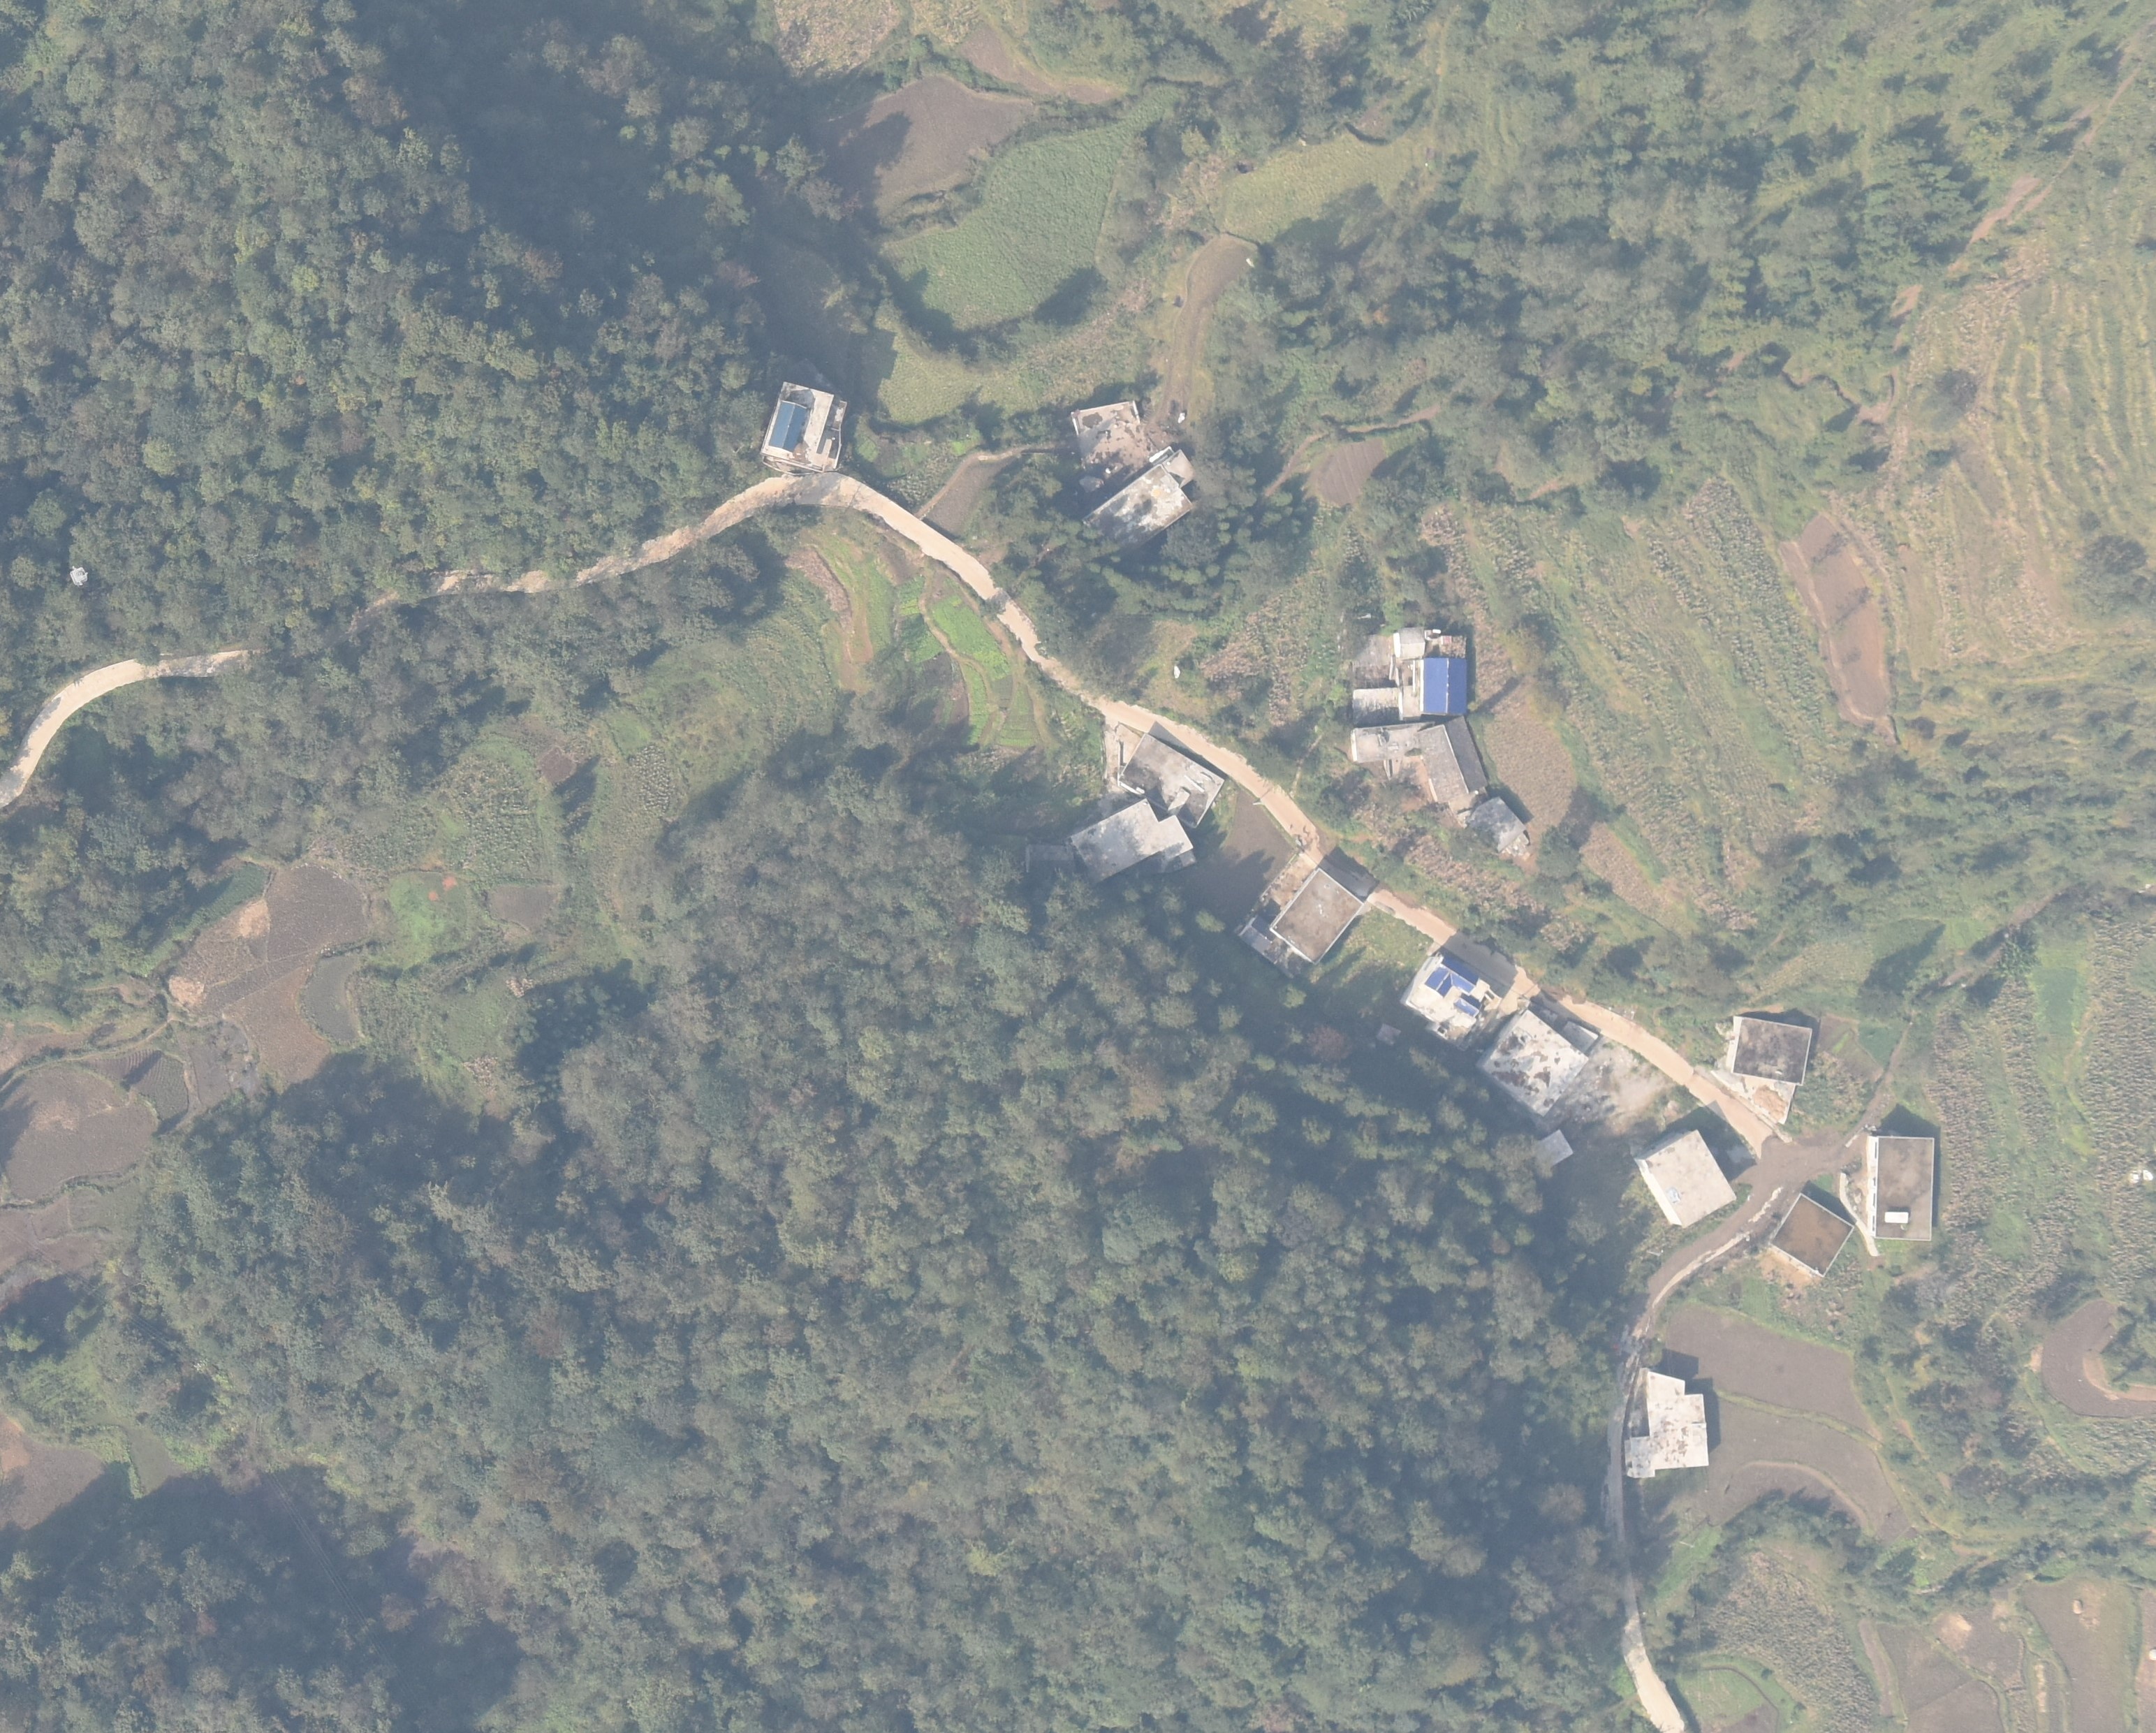building: (1479, 1004, 1586, 1123), (1070, 792, 1199, 886), (1620, 1363, 1712, 1482), (1077, 462, 1192, 555), (1114, 734, 1226, 829), (1634, 1128, 1739, 1227), (1270, 866, 1369, 967), (1866, 1130, 1940, 1250), (1404, 950, 1491, 1045), (1070, 398, 1153, 493), (1767, 1187, 1854, 1277), (1717, 1012, 1815, 1088), (759, 377, 833, 472), (1417, 713, 1487, 808), (1351, 721, 1441, 762), (1468, 799, 1528, 854), (1422, 656, 1472, 721), (1351, 681, 1406, 730), (1426, 955, 1480, 1003), (1022, 836, 1079, 881), (768, 398, 807, 456), (1238, 911, 1282, 955), (1532, 1130, 1572, 1167), (1160, 449, 1196, 490), (1392, 626, 1431, 660), (1438, 633, 1468, 661), (1452, 994, 1482, 1020)
